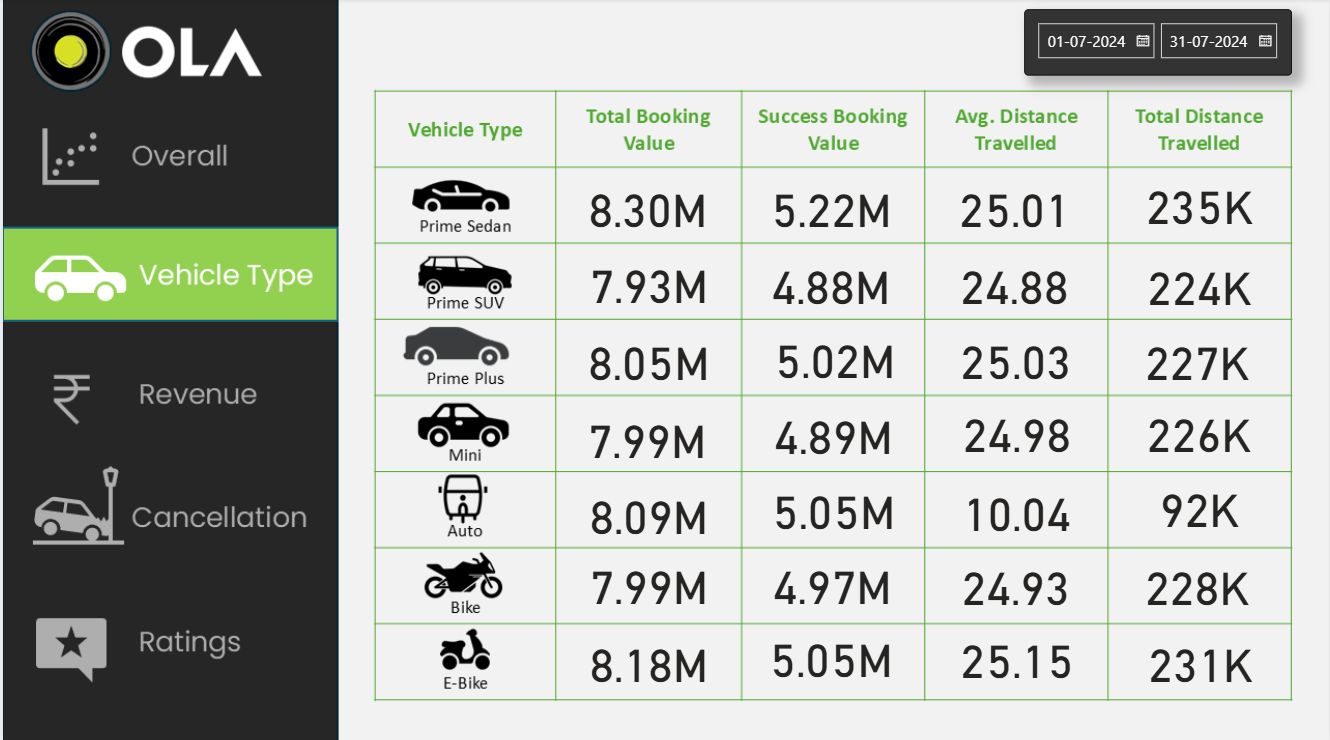

What the dashboard file says about the page in this screenshot:
{"tool":"powerbi","page":{"name":"Vehicle Type","canvas":[1280,720],"ordinal":1},"visuals":[{"type":"actionButton","box":[0,103.8,324.5,90.5],"z":0},{"type":"actionButton","box":[0,340.2,324.5,90.5],"z":1000},{"type":"actionButton","box":[0,445.2,324.5,114.6],"z":2000},{"type":"actionButton","box":[0,576.7,324.5,114.6],"z":3000},{"type":"card","fields":{"Values":["Sum(OLA Bookings Excel file.Booking_Value)"]},"box":[534.5,165.3,176.1,71.2],"z":4000},{"type":"card","fields":{"Values":["Sum(OLA Bookings Excel file.Booking_Value)"]},"box":[535.2,311.5,175.6,74.1],"z":5000},{"type":"card","fields":{"Values":["Sum(OLA Bookings Excel file.Booking_Value)"]},"box":[535.2,601,175.6,76.8],"z":6000},{"type":"card","fields":{"Values":["Sum(OLA Bookings Excel file.Booking_Value)"]},"box":[533.8,385.6,177,74.1],"z":7000},{"type":"card","fields":{"Values":["Sum(OLA Bookings Excel file.Booking_Value)"]},"box":[535.2,526.9,175.6,74.1],"z":8000},{"type":"card","fields":{"Values":["Sum(OLA Bookings Excel file.Booking_Value)"]},"box":[535.2,236,175.6,74.1],"z":9000},{"type":"card","fields":{"Values":["Sum(OLA Bookings Excel file.Booking_Value)"]},"box":[535.2,459.7,175.6,74.1],"z":10000},{"type":"card","fields":{"Values":["Sum(OLA Bookings Excel file.Booking_Value)"]},"box":[711.8,165.3,174.9,70],"z":11000},{"type":"card","fields":{"Values":["Sum(OLA Bookings Excel file.Booking_Value)"]},"box":[711.8,237.7,174.9,73.6],"z":12000},{"type":"card","fields":{"Values":["Sum(OLA Bookings Excel file.Booking_Value)"]},"box":[715.4,311.3,174.9,70],"z":13000},{"type":"card","fields":{"Values":["Sum(OLA Bookings Excel file.Booking_Value)"]},"box":[714.2,384.9,174.9,70],"z":14000},{"type":"card","fields":{"Values":["Sum(OLA Bookings Excel file.Booking_Value)"]},"box":[714.2,457.2,174.9,70],"z":15000},{"type":"card","fields":{"Values":["Sum(OLA Bookings Excel file.Booking_Value)"]},"box":[713,529.6,174.9,70],"z":16000},{"type":"card","fields":{"Values":["Sum(OLA Bookings Excel file.Booking_Value)"]},"box":[711.8,599.6,174.9,70],"z":17000},{"type":"card","fields":{"Values":["Avg(OLA Bookings Excel file.Ride_Distance)"]},"box":[889.2,164.7,174.3,72.7],"z":18000},{"type":"card","fields":{"Values":["Avg(OLA Bookings Excel file.Ride_Distance)"]},"box":[889.2,237.4,174.3,74.1],"z":19000},{"type":"card","fields":{"Values":["Avg(OLA Bookings Excel file.Ride_Distance)"]},"box":[890.6,312.9,174.3,70],"z":20000},{"type":"card","fields":{"Values":["Avg(OLA Bookings Excel file.Ride_Distance)"]},"box":[891.9,382.8,174.3,71.4],"z":21000},{"type":"card","fields":{"Values":["Avg(OLA Bookings Excel file.Ride_Distance)"]},"box":[891.9,459.7,174.3,68.6],"z":22000},{"type":"card","fields":{"Values":["Avg(OLA Bookings Excel file.Ride_Distance)"]},"box":[890.6,531,174.3,70],"z":23000},{"type":"card","fields":{"Values":["Avg(OLA Bookings Excel file.Ride_Distance)"]},"box":[891.9,601,174.3,70],"z":24000},{"type":"card","fields":{"Values":["Sum(OLA Bookings Excel file.Ride_Distance)"]},"box":[1066.2,161.9,177,72.7],"z":25000},{"type":"card","fields":{"Values":["Sum(OLA Bookings Excel file.Ride_Distance)"]},"box":[1066.2,238.8,177,74.1],"z":26000},{"type":"card","fields":{"Values":["Sum(OLA Bookings Excel file.Ride_Distance)"]},"box":[1063.5,314.2,179.8,70],"z":27000},{"type":"card","fields":{"Values":["Sum(OLA Bookings Excel file.Ride_Distance)"]},"box":[1064.8,382.8,178.4,71.4],"z":28000},{"type":"card","fields":{"Values":["Sum(OLA Bookings Excel file.Ride_Distance)"]},"box":[1066.2,454.2,177,72.7],"z":29000},{"type":"card","fields":{"Values":["Sum(OLA Bookings Excel file.Ride_Distance)"]},"box":[1063.5,529.7,179.8,71.4],"z":30000},{"type":"card","fields":{"Values":["Sum(OLA Bookings Excel file.Ride_Distance)"]},"box":[1069,601,174.3,76.8],"z":31000},{"type":"slicer","title":"Date","fields":{"Values":["OLA Bookings Excel file.Date"]},"box":[985.7,10.9,258.2,63.9],"z":32000}]}

Visuals, with their boxes on the page's 1280x720 design canvas (x1, y1, x2, y2). These are canvas units, not pixel positions in the 1330x740 screenshot, which may show the page scaled, cropped or inside an application window:
actionButton: [0, 104, 324, 194]
actionButton: [0, 340, 324, 431]
actionButton: [0, 445, 324, 560]
actionButton: [0, 577, 324, 691]
card - Sum(OLA Bookings Excel file.Booking_Value): [534, 165, 711, 236]
card - Sum(OLA Bookings Excel file.Booking_Value): [535, 312, 711, 386]
card - Sum(OLA Bookings Excel file.Booking_Value): [535, 601, 711, 678]
card - Sum(OLA Bookings Excel file.Booking_Value): [534, 386, 711, 460]
card - Sum(OLA Bookings Excel file.Booking_Value): [535, 527, 711, 601]
card - Sum(OLA Bookings Excel file.Booking_Value): [535, 236, 711, 310]
card - Sum(OLA Bookings Excel file.Booking_Value): [535, 460, 711, 534]
card - Sum(OLA Bookings Excel file.Booking_Value): [712, 165, 887, 235]
card - Sum(OLA Bookings Excel file.Booking_Value): [712, 238, 887, 311]
card - Sum(OLA Bookings Excel file.Booking_Value): [715, 311, 890, 381]
card - Sum(OLA Bookings Excel file.Booking_Value): [714, 385, 889, 455]
card - Sum(OLA Bookings Excel file.Booking_Value): [714, 457, 889, 527]
card - Sum(OLA Bookings Excel file.Booking_Value): [713, 530, 888, 600]
card - Sum(OLA Bookings Excel file.Booking_Value): [712, 600, 887, 670]
card - Avg(OLA Bookings Excel file.Ride_Distance): [889, 165, 1064, 237]
card - Avg(OLA Bookings Excel file.Ride_Distance): [889, 237, 1064, 312]
card - Avg(OLA Bookings Excel file.Ride_Distance): [891, 313, 1065, 383]
card - Avg(OLA Bookings Excel file.Ride_Distance): [892, 383, 1066, 454]
card - Avg(OLA Bookings Excel file.Ride_Distance): [892, 460, 1066, 528]
card - Avg(OLA Bookings Excel file.Ride_Distance): [891, 531, 1065, 601]
card - Avg(OLA Bookings Excel file.Ride_Distance): [892, 601, 1066, 671]
card - Sum(OLA Bookings Excel file.Ride_Distance): [1066, 162, 1243, 235]
card - Sum(OLA Bookings Excel file.Ride_Distance): [1066, 239, 1243, 313]
card - Sum(OLA Bookings Excel file.Ride_Distance): [1064, 314, 1243, 384]
card - Sum(OLA Bookings Excel file.Ride_Distance): [1065, 383, 1243, 454]
card - Sum(OLA Bookings Excel file.Ride_Distance): [1066, 454, 1243, 527]
card - Sum(OLA Bookings Excel file.Ride_Distance): [1064, 530, 1243, 601]
card - Sum(OLA Bookings Excel file.Ride_Distance): [1069, 601, 1243, 678]
"Date" slicer: [986, 11, 1244, 75]
